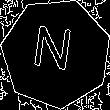N_S: (33, 26, 79, 81)
